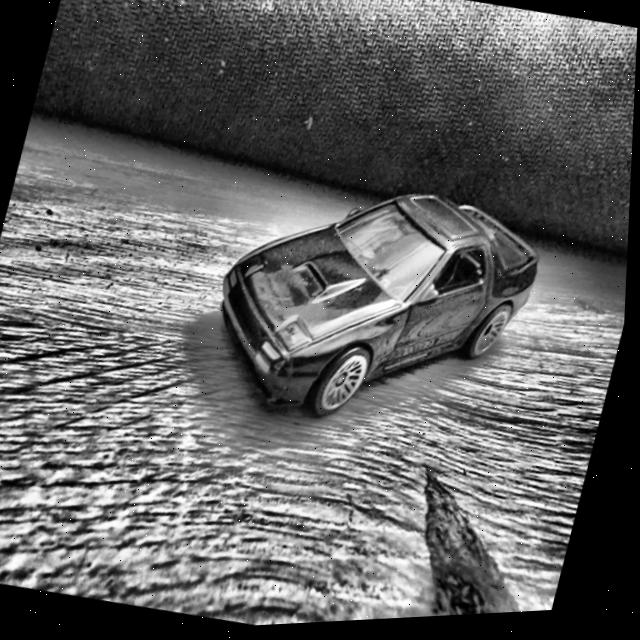car: (195, 154, 557, 463)
